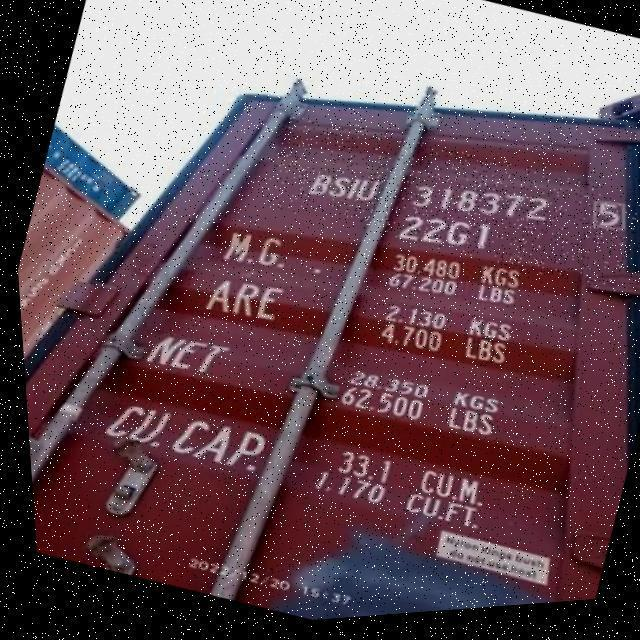container_number_h: (255, 93, 640, 323)
